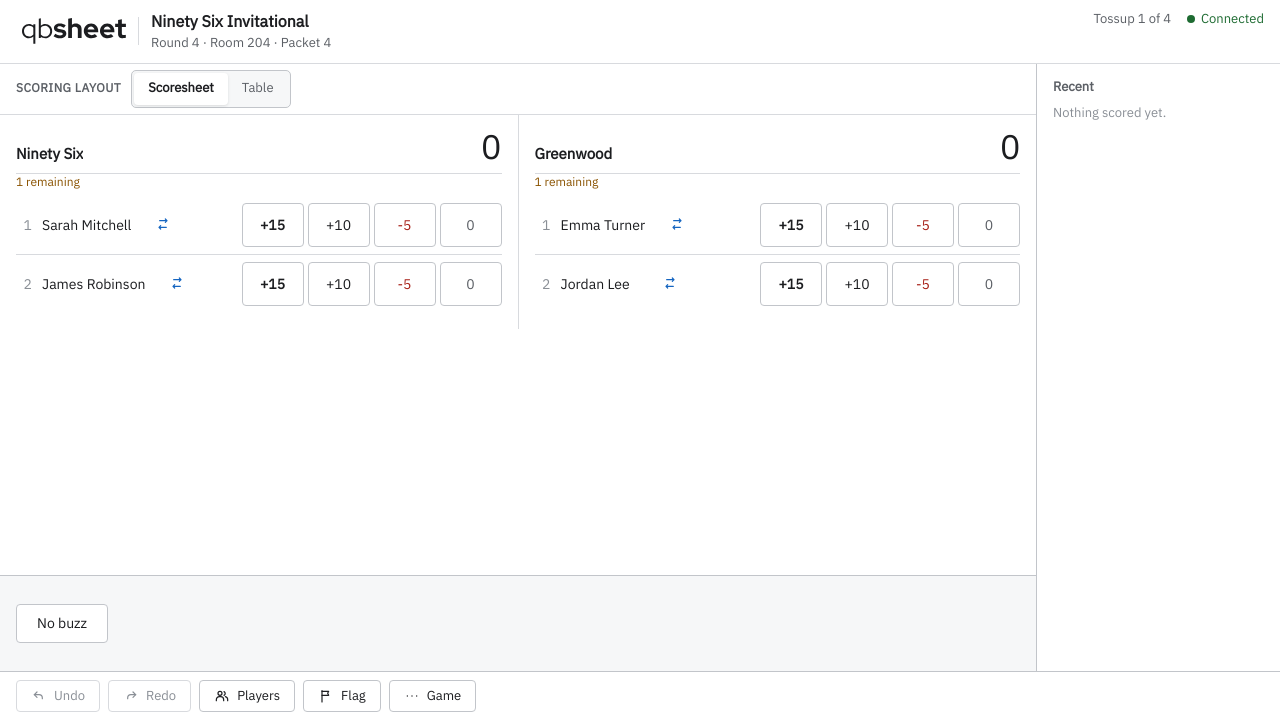
Test: an ordinary game is exactly as it was › a team with a timeout left is offered a timeout and nothing else
Click the button "Game" at (432, 696), box [389,680,476,712]
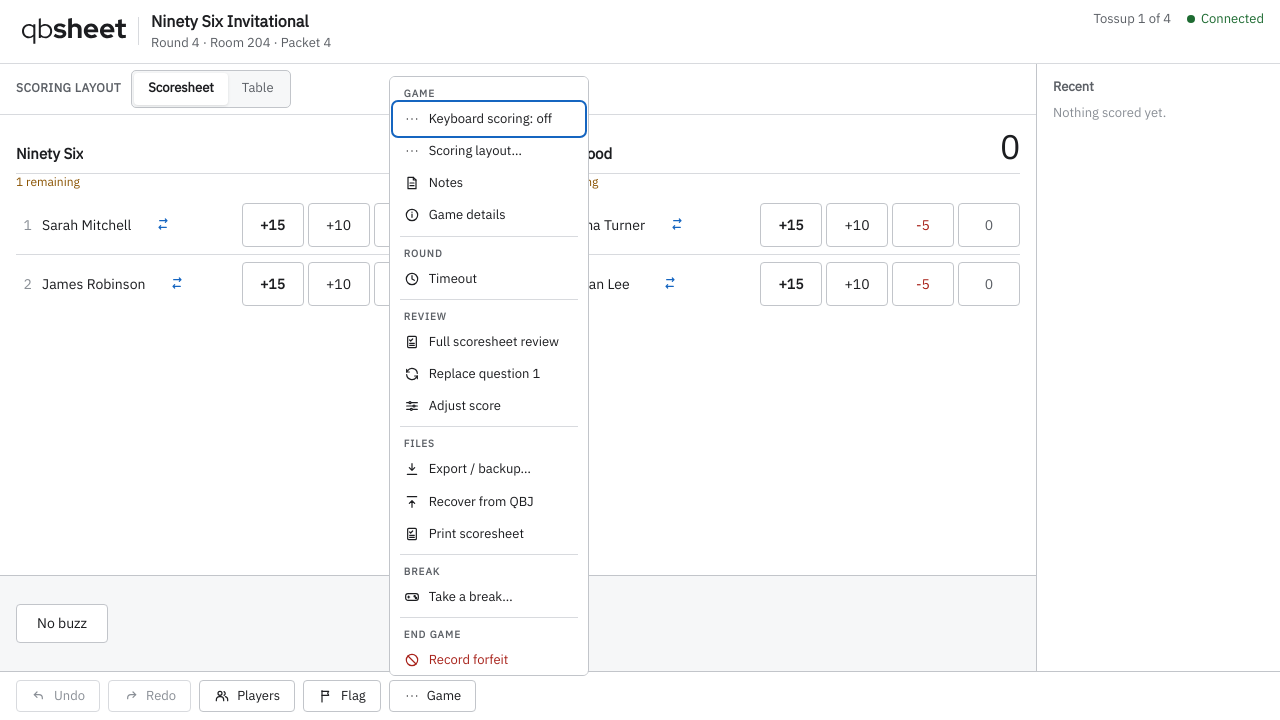
Click the menu item "Timeout" at (489, 279), box [394,263,584,295]
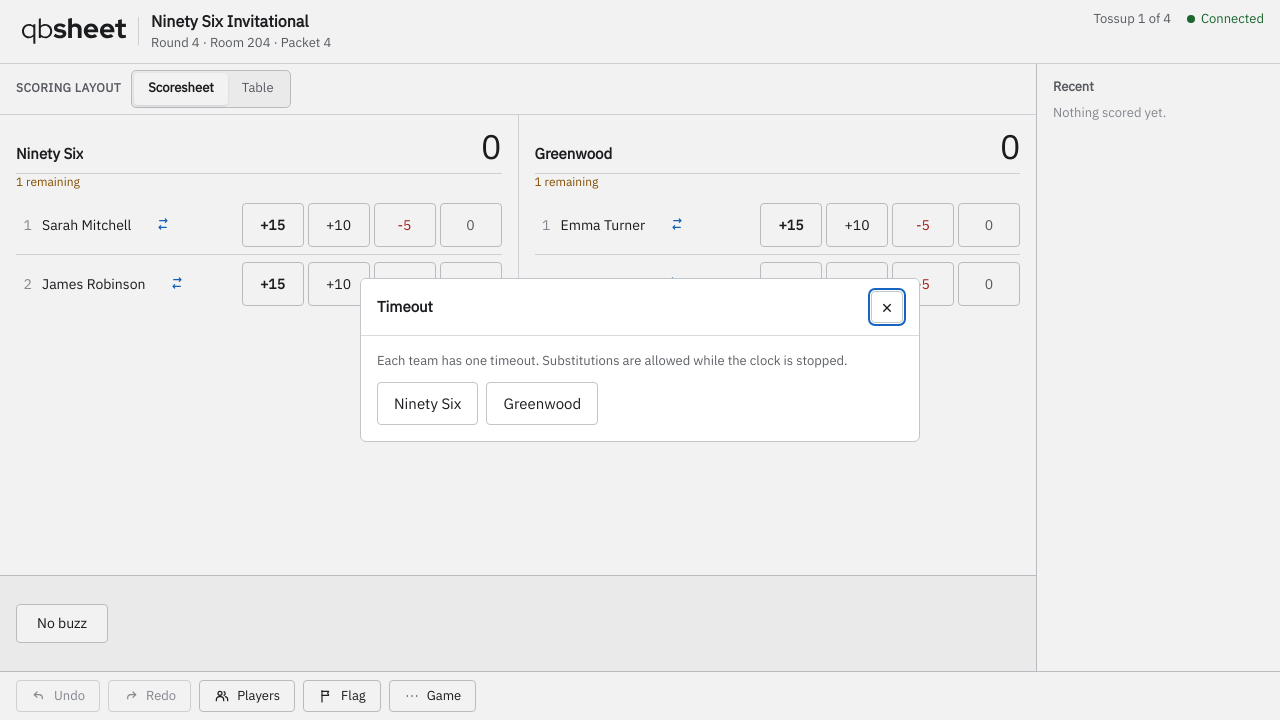
expect the button "Ninety Six" is enabled: met, box [377,382,478,425]
